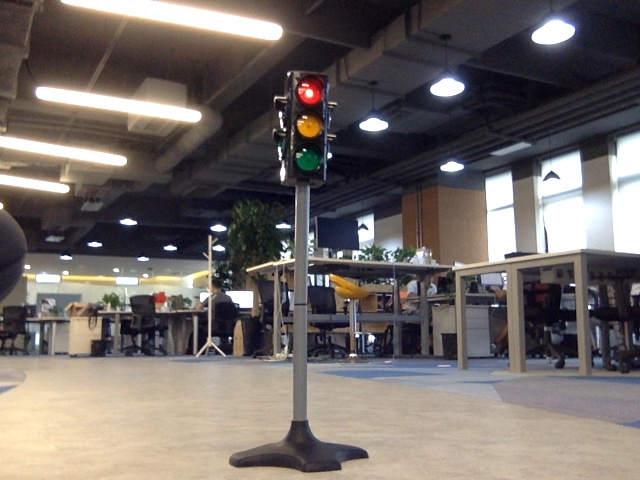red: (290, 76, 327, 172)
